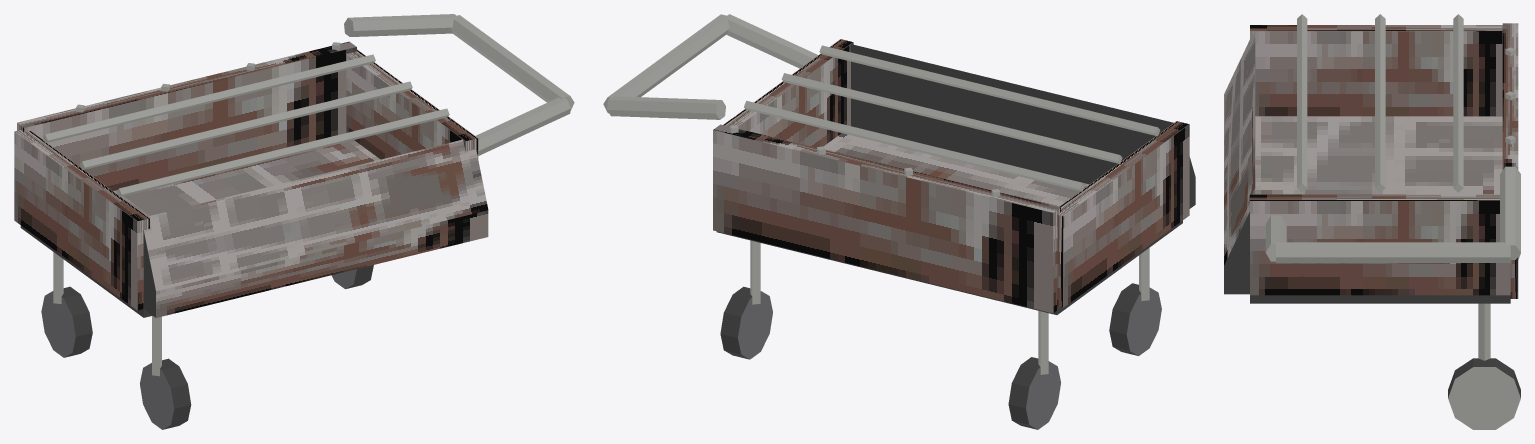
File: Building_AncientShoppingCart.glb
3 renders of one model, left to right at view 1: azimuth 30°, elevation 25°; view 2: azimuth 150°, elevation 25°; view 3: azimuth 270°, elevation 25°, orthographic. The views are drawn at different scales.
Visible parts, largest first — view 1: AncientShoppingCart; view 2: AncientShoppingCart; view 3: AncientShoppingCart.
Part boxes in pixels (x1,y1,x2,y2): AncientShoppingCart: (14, 14, 574, 429); AncientShoppingCart: (603, 14, 1195, 429); AncientShoppingCart: (1224, 14, 1520, 429).
Bounding box in the file's own units: 1.06 × 0.5636 × 0.57.
1 material, 1 textured.
